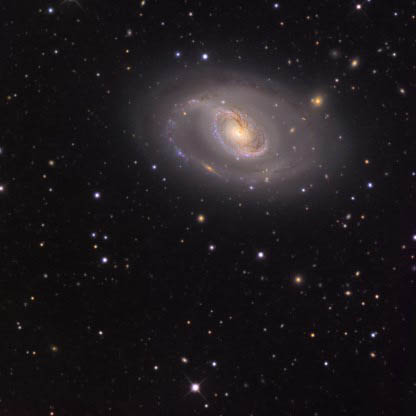Messier 96: (117, 62, 363, 219)
